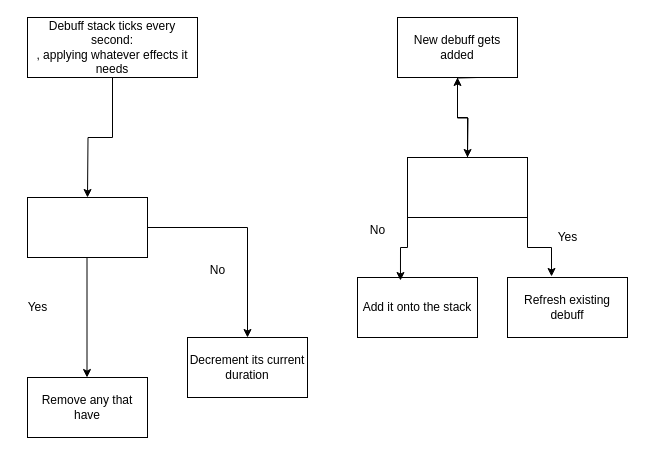
This 645x455 diagram has some shape labels left out. The shapes that lost their labels are listed below. From the top down, each one's centre as x and y in pixels, then its label:
At pixel 467 187: "Already in queue?".
At pixel 87 227: "Check if any have expired".
